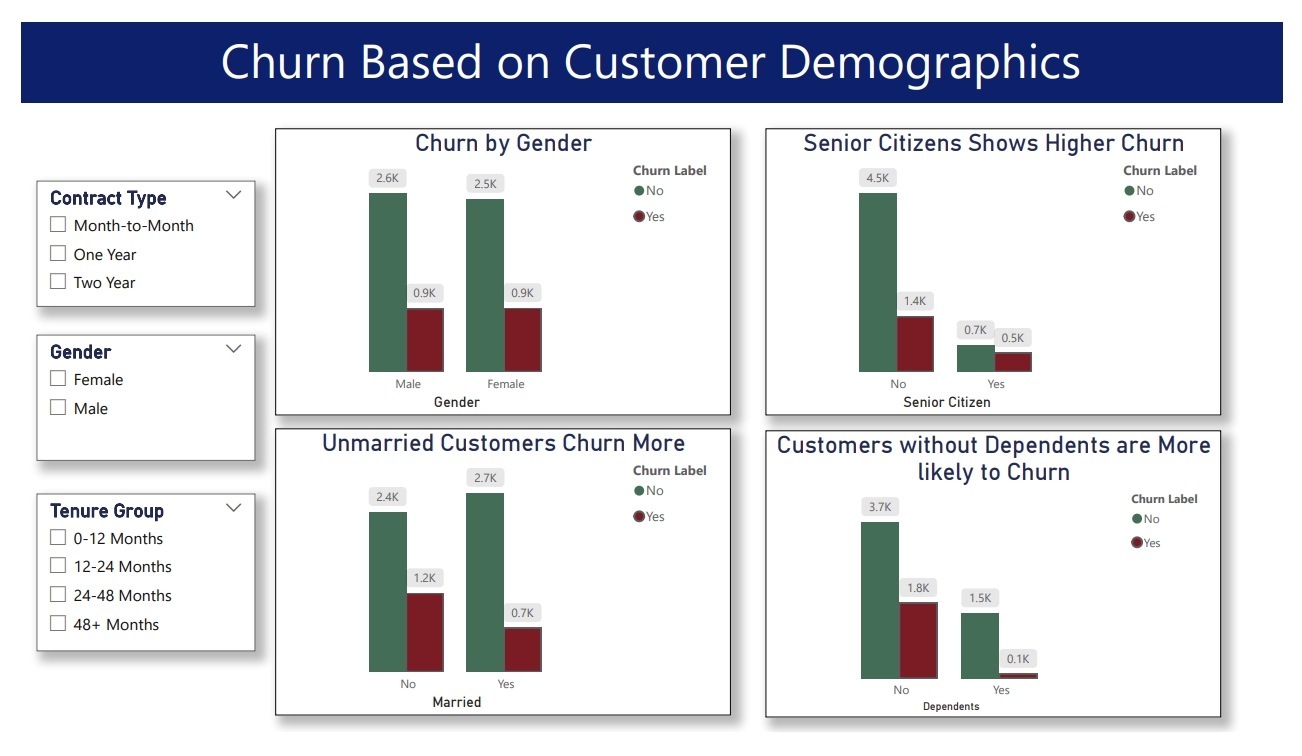

What the dashboard file says about the page in this screenshot:
{"tool":"powerbi","page":{"name":"Demographics ","canvas":[1280,720],"ordinal":1},"visuals":[{"type":"slicer","fields":{"Values":["Dim_Services.Contract"]},"box":[15.8,161.1,222.6,127.9],"z":0},{"type":"slicer","fields":{"Values":["Dim_Demographics.Gender"]},"box":[15.8,317.4,222.6,127.9],"z":1000},{"type":"slicer","fields":{"Values":["Dim_Services.Tenure Group"]},"box":[15.8,478.4,222.6,159.5],"z":2000},{"type":"textbox","box":[0,0,1279,82.1],"z":3000},{"type":"clusteredColumnChart","title":"Senior Citizens Shows Higher Churn","fields":{"Category":["Dim_Demographics.Senior Citizen"],"Series":["Fact_Churn.Churn Label"],"Y":["CountNonNull(Fact_Churn.Customer ID)"]},"box":[754.9,107.8,462.2,290.8],"z":4000},{"type":"clusteredColumnChart","title":"Churn by Gender","fields":{"Category":["Dim_Demographics.Gender"],"Y":["Count(Fact_Churn.Customer ID)"],"Series":["Fact_Churn.Churn Label"]},"box":[258.1,107.8,462.2,290.8],"z":5000},{"type":"clusteredColumnChart","title":"Unmarried Customers Churn More","fields":{"Category":["Dim_Demographics.Married"],"Y":["Count(Fact_Churn.Customer ID)"],"Series":["Fact_Churn.Churn Label"]},"box":[258.1,412.1,462.2,290.8],"z":6000},{"type":"clusteredColumnChart","title":"Customers without Dependents are More likely to Churn","fields":{"Category":["Dim_Demographics.Dependents"],"Y":["Count(Fact_Churn.Customer ID)"],"Series":["Fact_Churn.Churn Label"]},"box":[754.9,414,462.2,290.8],"z":7000}]}

Visuals, with their boxes on the page's 1280x720 design canvas (x1, y1, x2, y2). These are canvas units, not pixel positions in the 1302x756 screenshot, which may show the page scaled, cropped or inside an application window:
slicer - Dim_Services.Contract: x1=16 y1=161 x2=238 y2=289
slicer - Dim_Demographics.Gender: x1=16 y1=317 x2=238 y2=445
slicer - Dim_Services.Tenure Group: x1=16 y1=478 x2=238 y2=638
textbox: x1=0 y1=0 x2=1279 y2=82
"Senior Citizens Shows Higher Churn" clusteredColumnChart: x1=755 y1=108 x2=1217 y2=399
"Churn by Gender" clusteredColumnChart: x1=258 y1=108 x2=720 y2=399
"Unmarried Customers Churn More" clusteredColumnChart: x1=258 y1=412 x2=720 y2=703
"Customers without Dependents are More likely to Churn" clusteredColumnChart: x1=755 y1=414 x2=1217 y2=705
